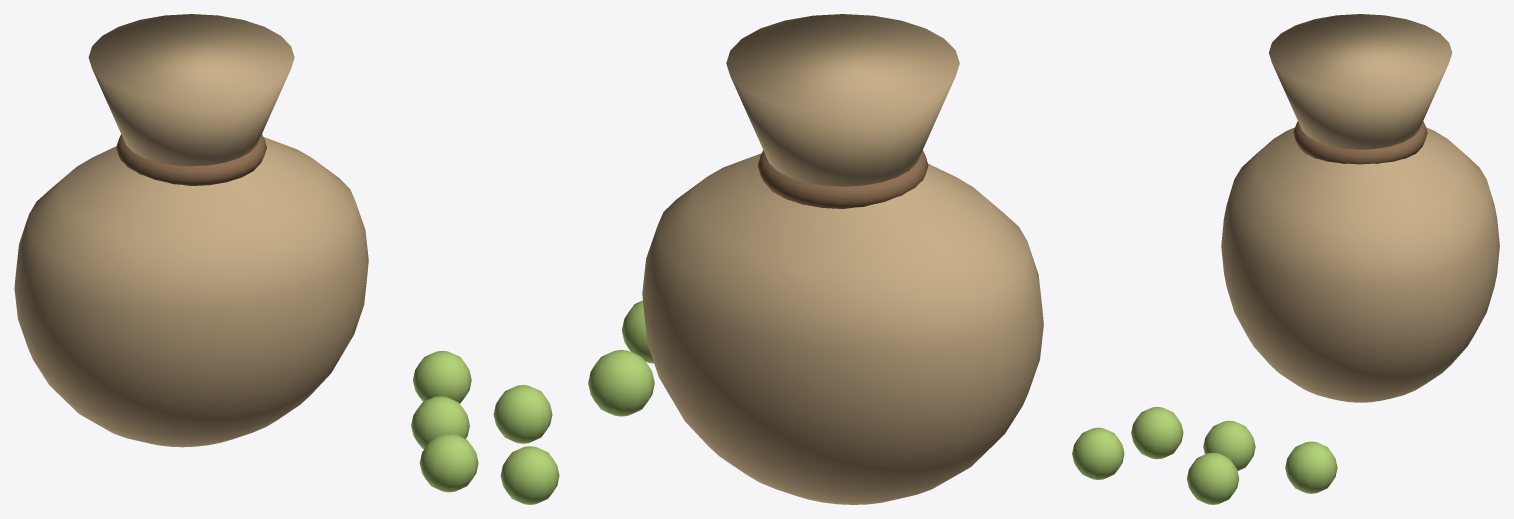
The model's file is vigor_feed.glb.
3 renders of one model, left to right at view 1: azimuth 30°, elevation 25°; view 2: azimuth 150°, elevation 25°; view 3: azimuth 270°, elevation 25°, orthographic. The views are drawn at different scales.
Visible parts, largest first — view 1: pellet4; view 2: pellet4; view 3: pellet4.
Boxes of the visible parts, x1,y1,x2,y2 form: pellet4: (14, 14, 559, 504); pellet4: (588, 14, 1043, 504); pellet4: (1072, 14, 1499, 504).
Size of the model in its own units: 0.3548 by 0.3 by 0.3404.
